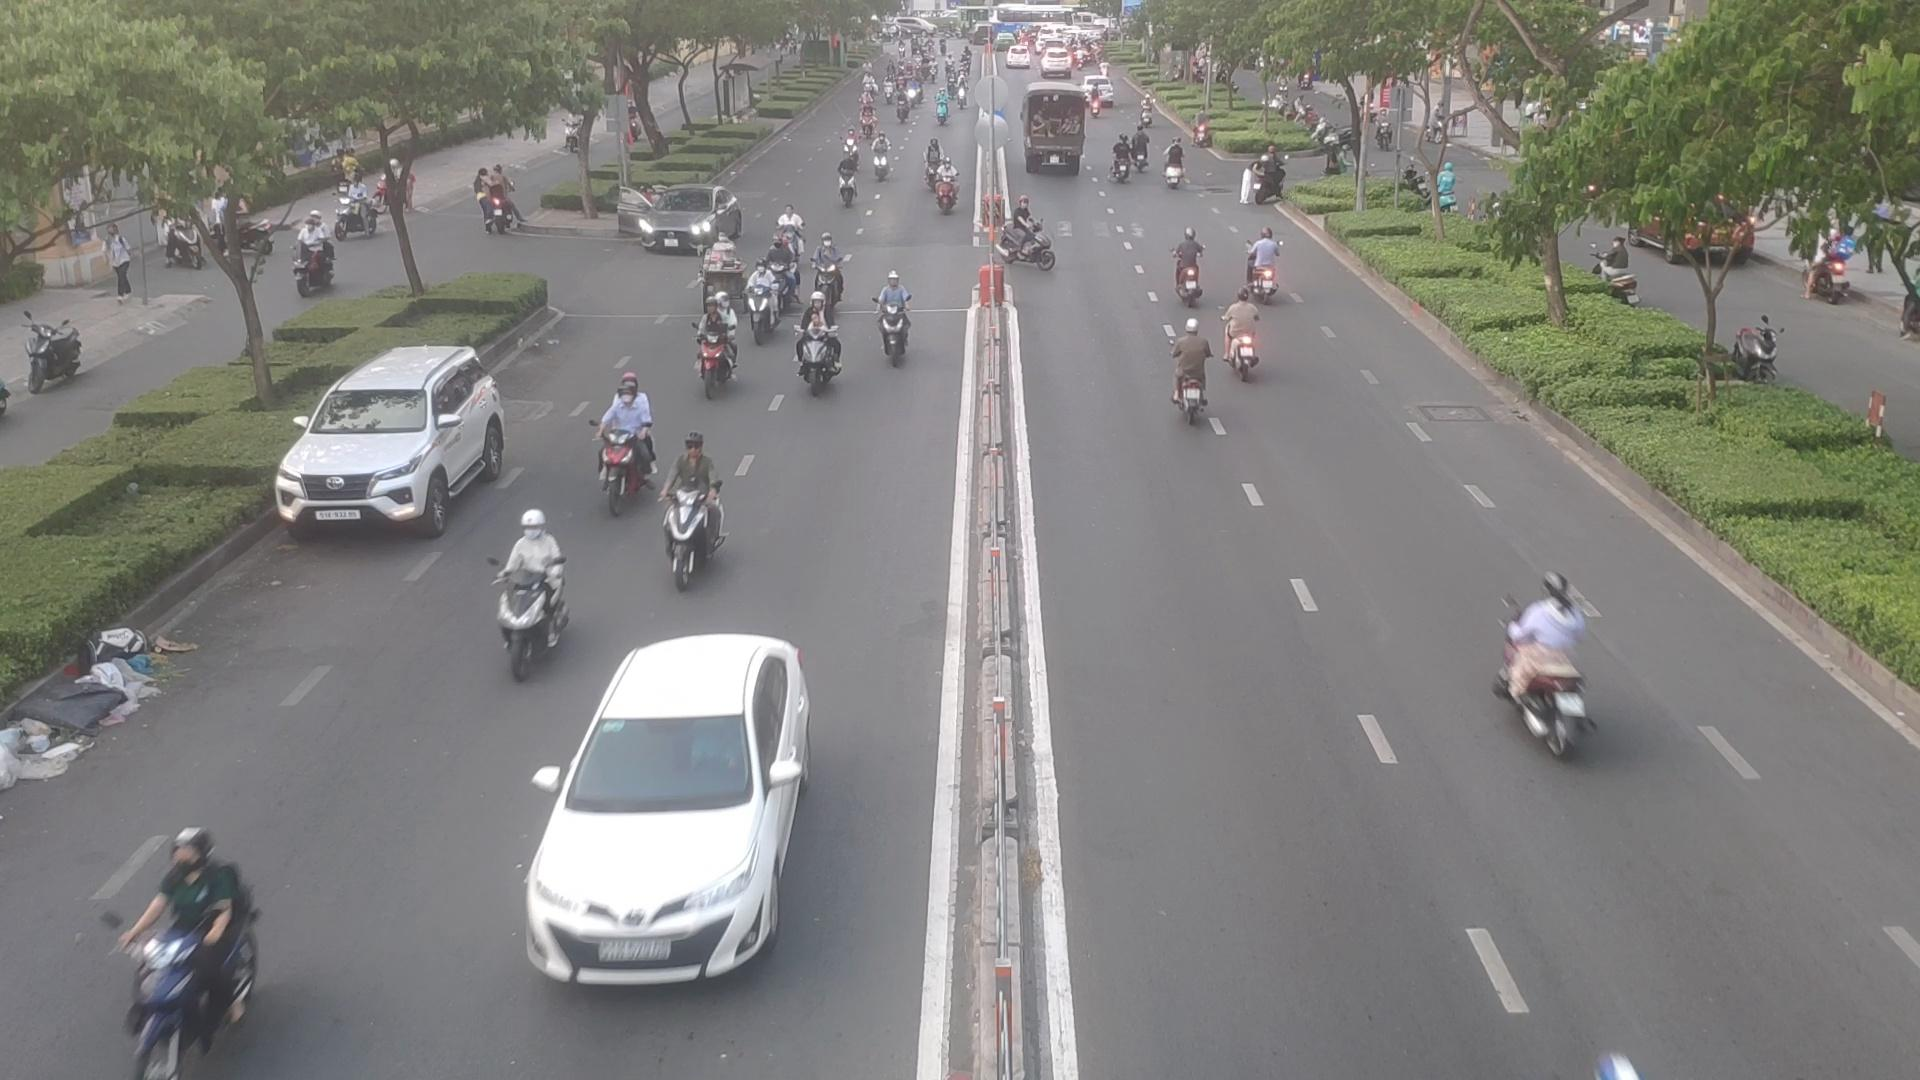car: (521, 640, 814, 986), (273, 345, 512, 535), (618, 187, 735, 255)
motorbike: (111, 829, 264, 1067), (1501, 560, 1600, 757), (493, 556, 575, 678), (669, 423, 731, 582), (589, 367, 653, 506), (993, 193, 1062, 280), (690, 284, 741, 397), (1174, 320, 1216, 430), (1217, 289, 1265, 375), (874, 266, 916, 359), (1167, 223, 1209, 310), (795, 328, 847, 400), (1241, 224, 1280, 301), (744, 251, 781, 331), (807, 231, 841, 310), (1241, 142, 1280, 211), (833, 146, 864, 222), (1160, 136, 1189, 196), (931, 156, 959, 211), (1106, 135, 1133, 187), (869, 133, 893, 183)
